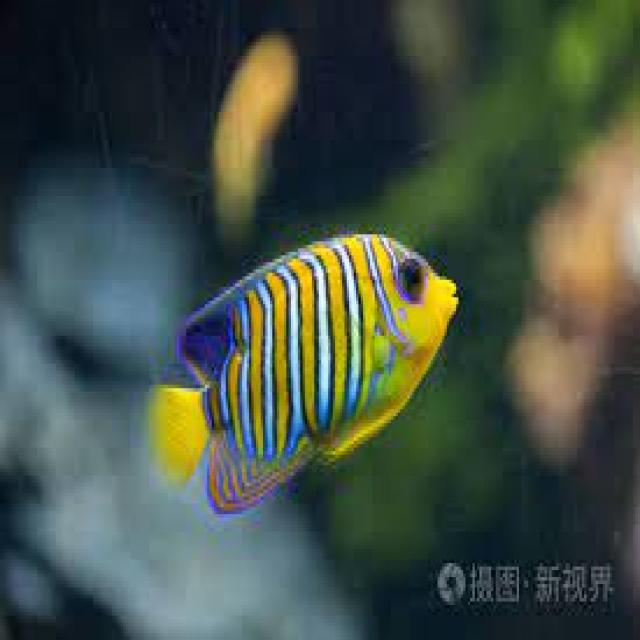AngelFish: (148, 232, 460, 515)
